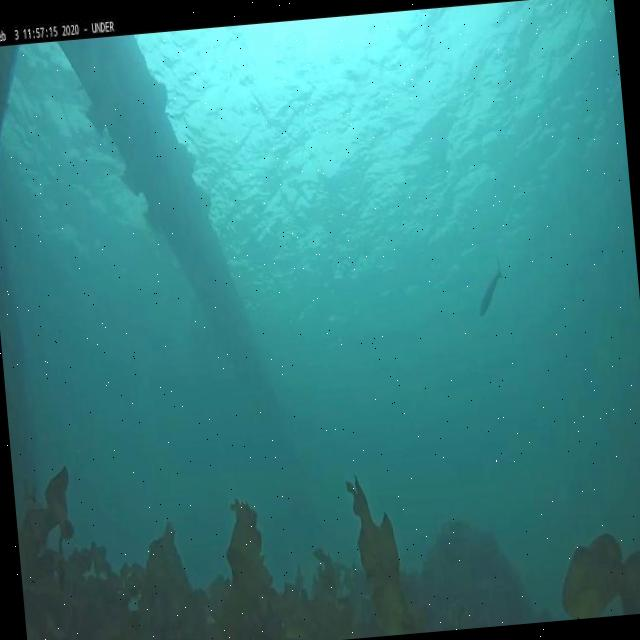fish: (474, 263, 506, 317)
